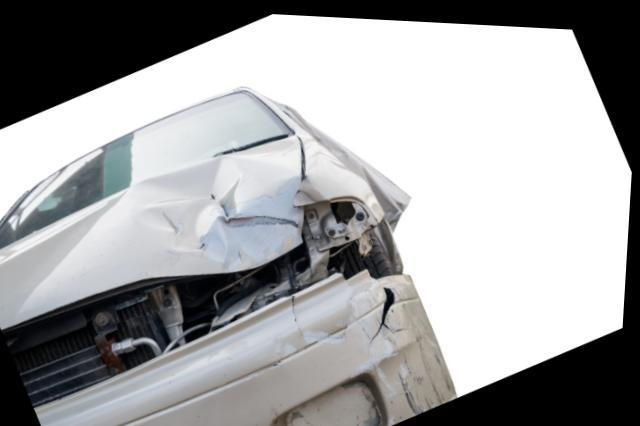crack: (372, 282, 407, 343), (295, 291, 310, 334)
dent: (133, 153, 306, 262)
no part: (98, 191, 411, 369)
scratch: (389, 287, 461, 412)
